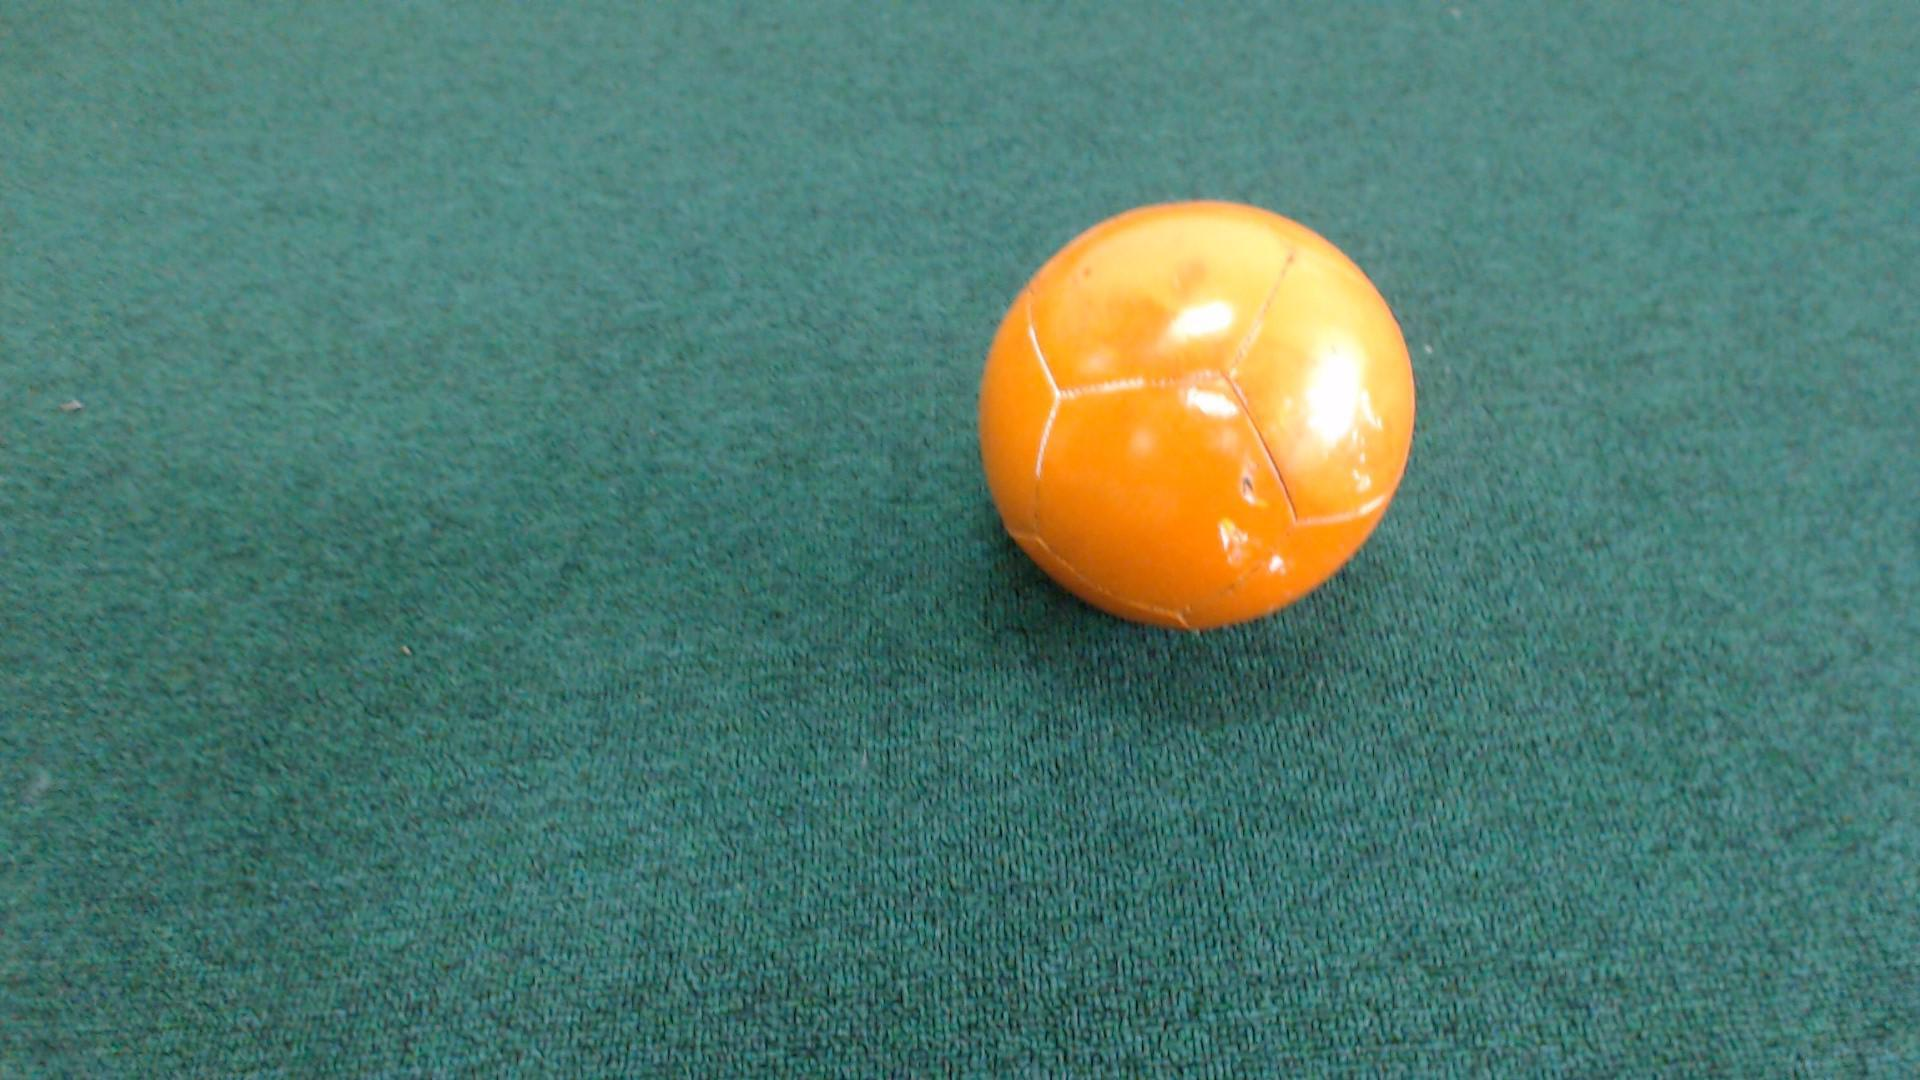bola: (926, 182, 1449, 641)
